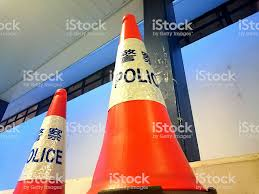cones: (88, 15, 215, 194), (10, 87, 73, 194)
